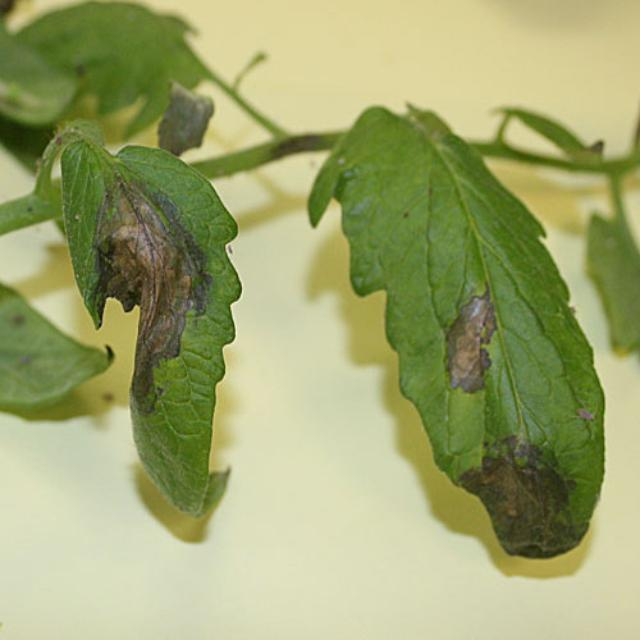Late_blight: (82, 170, 214, 416), (454, 428, 586, 559), (441, 280, 499, 395)
